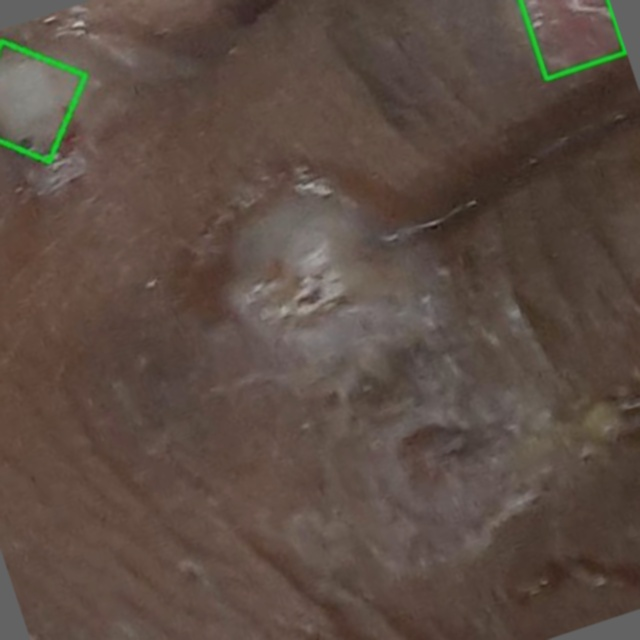Eczema: (0, 42, 84, 161)
